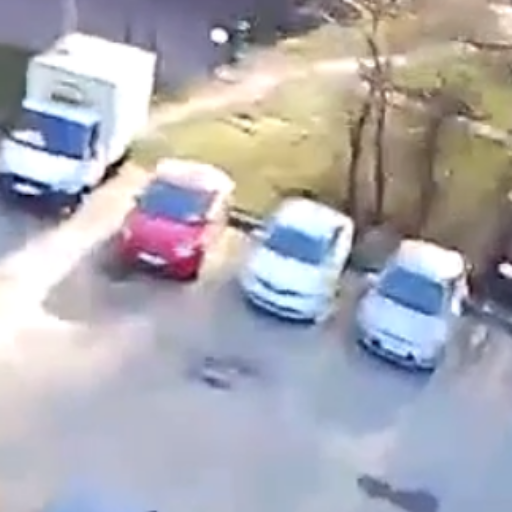Car: (0, 28, 157, 211), (239, 192, 357, 326), (358, 235, 470, 373), (112, 154, 231, 279)
